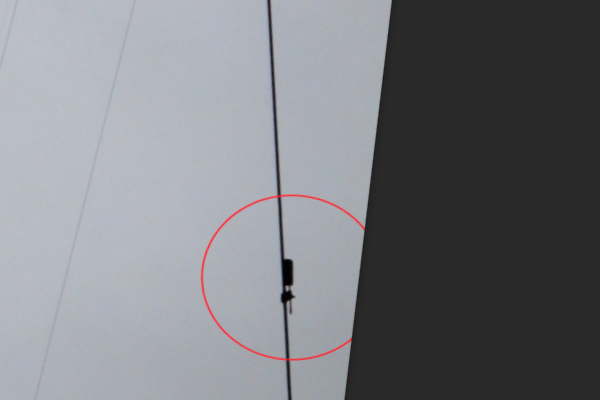damper_defect: (276, 256, 297, 317)
